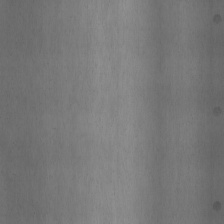oil_spot: (212, 200, 223, 215), (211, 106, 222, 119), (213, 11, 221, 25)
